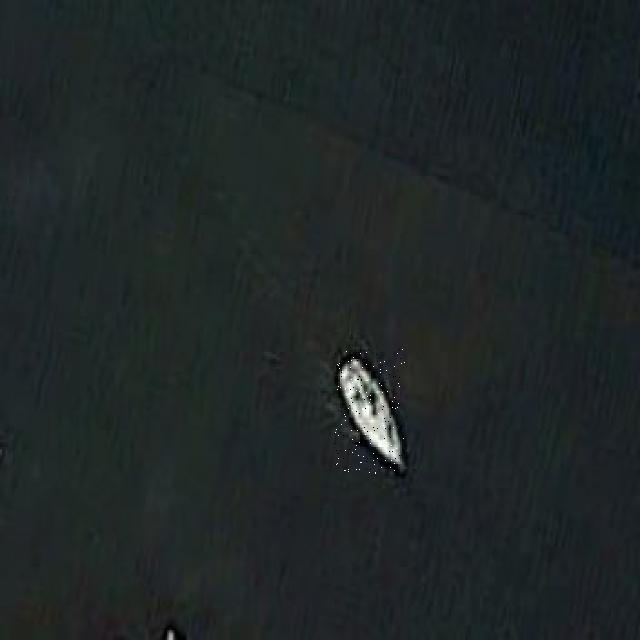boat: (334, 349, 406, 474)
